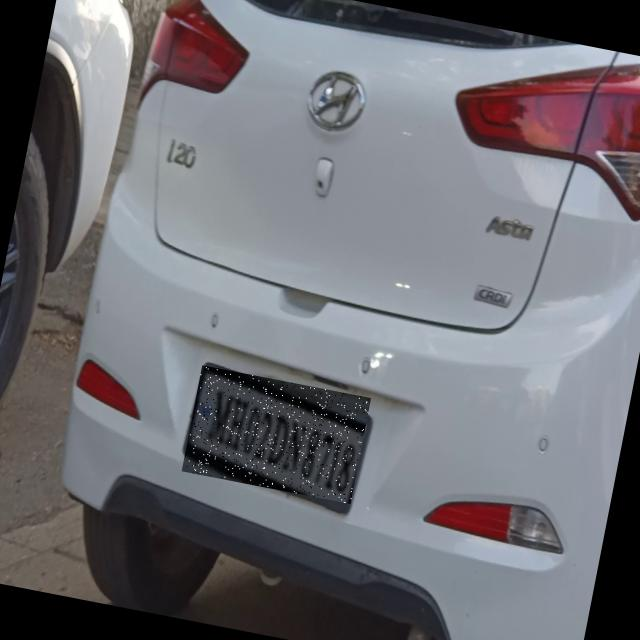Plate: (183, 367, 372, 506)
